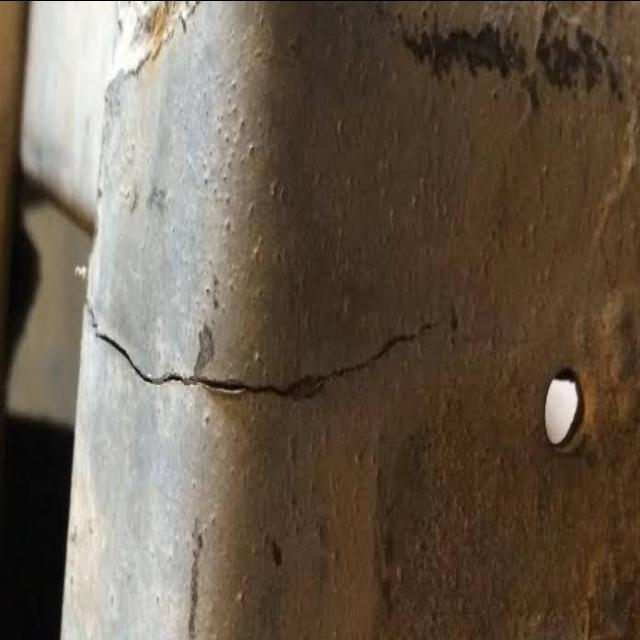defect: (81, 294, 456, 400)
